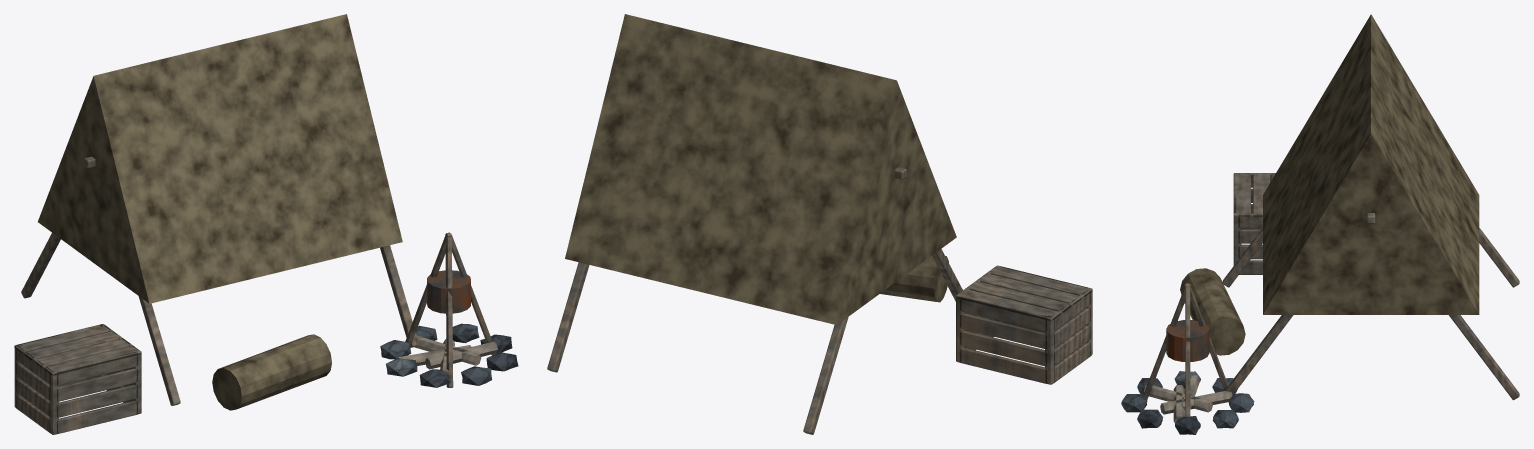
The model's file is poi_camp.glb.
3 renders of one model, left to right at view 1: azimuth 30°, elevation 25°; view 2: azimuth 150°, elevation 25°; view 3: azimuth 270°, elevation 25°, orthographic. The views are drawn at different scales.
Visible parts, largest first — view 1: poi_camp; view 2: poi_camp; view 3: poi_camp.
Part boxes in pixels (bbox=[...]): poi_camp: bbox=[14, 14, 518, 434]; poi_camp: bbox=[547, 14, 1092, 434]; poi_camp: bbox=[1121, 14, 1519, 434].
Bounding box in the file's own units: 2.92 × 1.83 × 2.39.
Materials: 4 (4 with a texture image).
